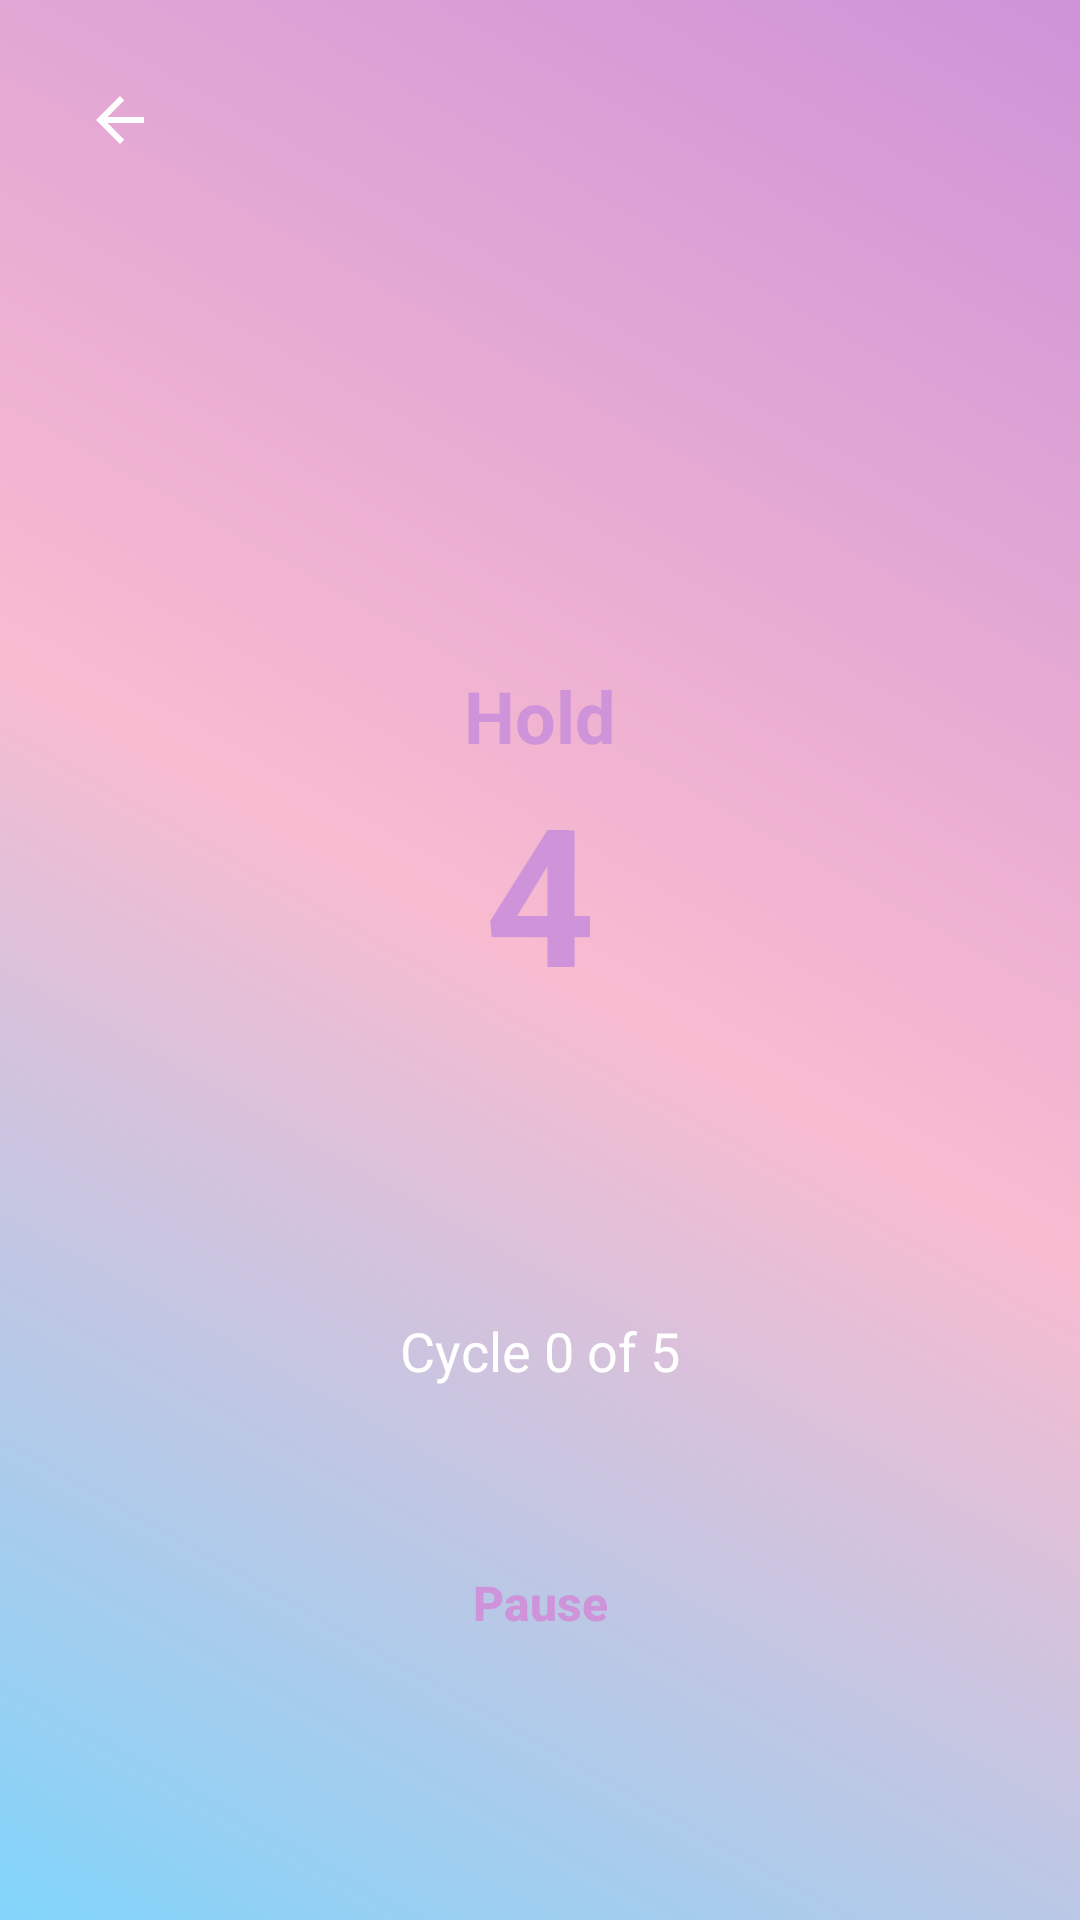

Where to tap for icons on this 1080px×1920px app screen, as [x,y]:
arrow back: [120,120]
